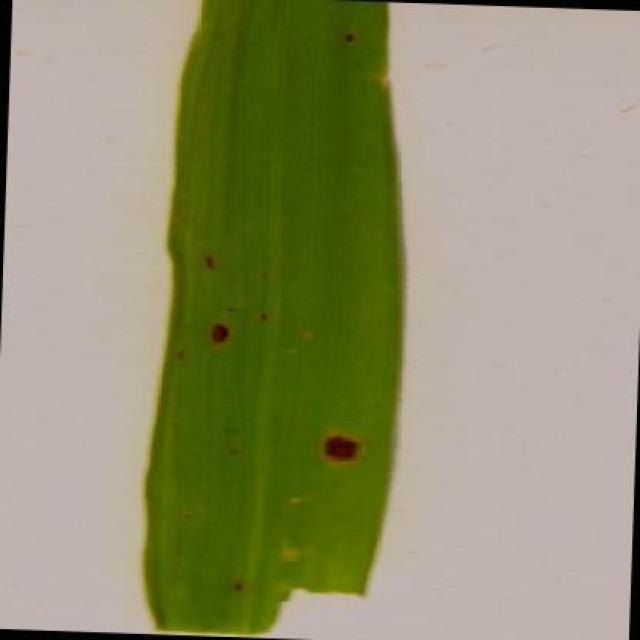Leaf_Blast: (306, 419, 377, 475), (194, 312, 243, 356), (325, 22, 367, 52), (219, 568, 255, 601), (217, 439, 248, 467), (168, 342, 194, 373)
